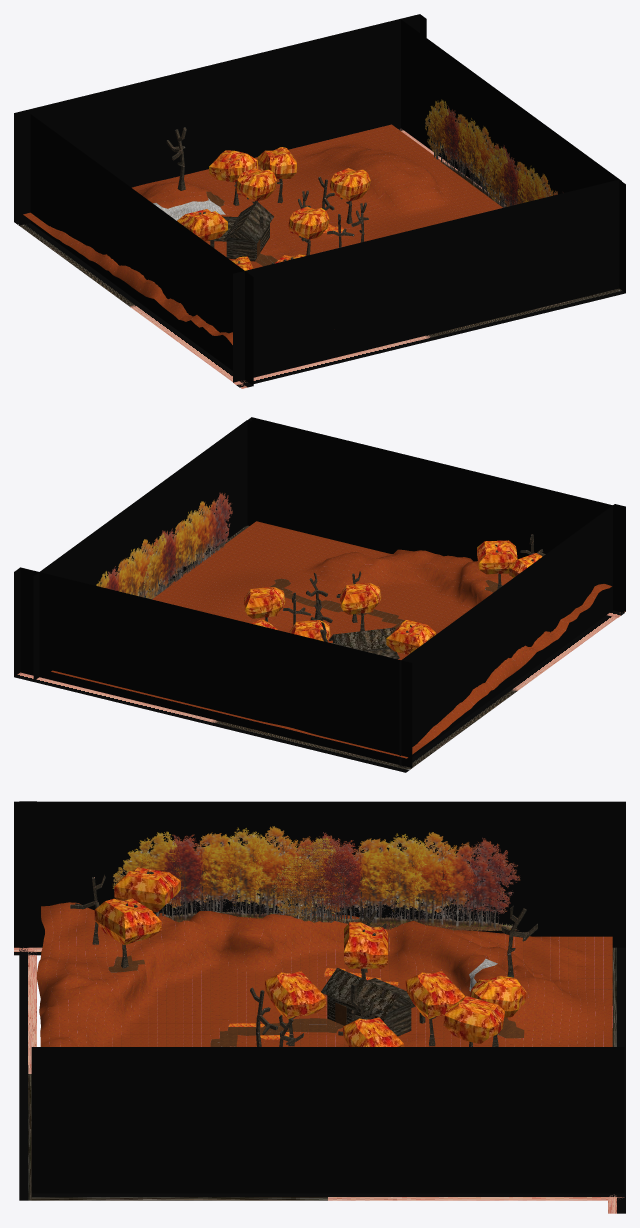
File: axekillerhouse.glb
3 renders of one model, top to bottom at view 1: azimuth 30°, elevation 25°; view 2: azimuth 150°, elevation 25°; view 3: azimuth 270°, elevation 25°, orthographic. The views are drawn at different scales.
Parts seen in each view (by area): view 1: Cube.001, Cube, Plane.002-col, Plane.002, Plane.003, Cube.003-col, tree1.003-col.008, tree1.003-col.003, tree1.003-col.001, tree1.003-col, tree1.003-col.006, tree1.003-col.007; view 2: Cube, Cube.001, Plane.002-col, Plane.003, Plane.002, Cube.003-col, tree1.003-col.004, tree1.003-col.001, tree1.003-col.003, tree1.003-col, tree1.003-col.006; view 3: Cube.001, Plane.002-col, Cube, Plane.001, Plane, Cube.003-col, tree1.003-col.004, tree1.003-col.001, tree1.003-col.007, tree1.003-col.006, tree1.003-col.005, tree1.003-col (+3 smaller).
Part boxes in pixels (<box>): Cube.001: <box>233,19,625,387</box>; Cube: <box>14,14,426,388</box>; Plane.002-col: <box>23,124,502,344</box>; Plane.002: <box>425,99,510,207</box>; Plane.003: <box>484,147,563,207</box>; Cube.003-col: <box>208,201,273,261</box>; tree1.003-col.008: <box>209,150,258,205</box>; tree1.003-col.003: <box>329,168,370,223</box>; tree1.003-col.001: <box>288,206,329,255</box>; tree1.003-col: <box>177,209,227,241</box>; tree1.003-col.006: <box>236,168,276,203</box>; tree1.003-col.007: <box>257,147,296,203</box>; Cube: <box>14,504,625,772</box>; Cube.001: <box>33,417,624,680</box>; Plane.002-col: <box>51,521,611,758</box>; Plane.003: <box>143,492,232,599</box>; Plane.002: <box>96,530,168,598</box>; Cube.003-col: <box>329,623,399,659</box>; tree1.003-col.004: <box>477,540,517,589</box>; tree1.003-col.001: <box>340,583,381,631</box>; tree1.003-col.003: <box>244,587,285,621</box>; tree1.003-col: <box>386,619,435,654</box>; tree1.003-col.006: <box>289,620,330,641</box>; Cube.001: <box>19,801,624,1200</box>; Plane.002-col: <box>37,902,612,1046</box>; Cube: <box>14,801,625,1213</box>; Plane.001: <box>271,832,520,930</box>; Plane: <box>112,826,360,923</box>; Cube.003-col: <box>321,968,425,1036</box>; tree1.003-col.004: <box>94,898,161,968</box>; tree1.003-col.001: <box>265,971,326,1046</box>; tree1.003-col.007: <box>443,996,504,1046</box>; tree1.003-col.006: <box>405,971,465,1046</box>; tree1.003-col.005: <box>114,867,180,912</box>; tree1.003-col: <box>344,922,387,979</box>.
Bounding box in the file's own units: 70.52 × 20 × 68.51.
5 materials, 5 textured.
